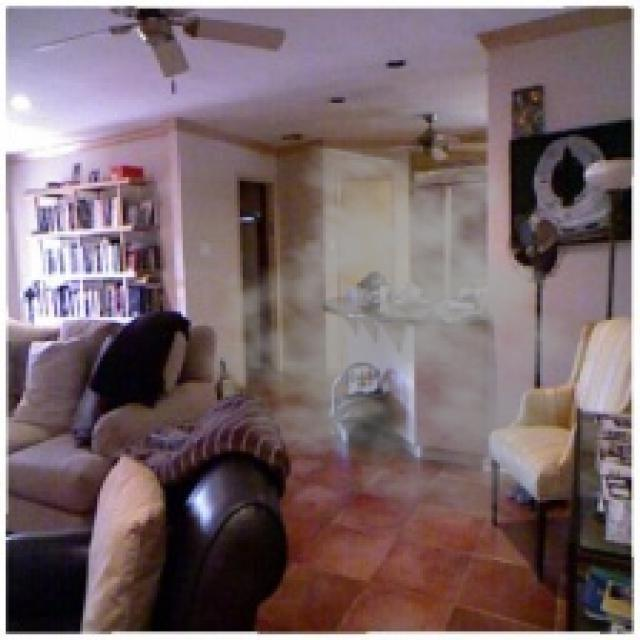Smoke: (197, 142, 617, 528)
